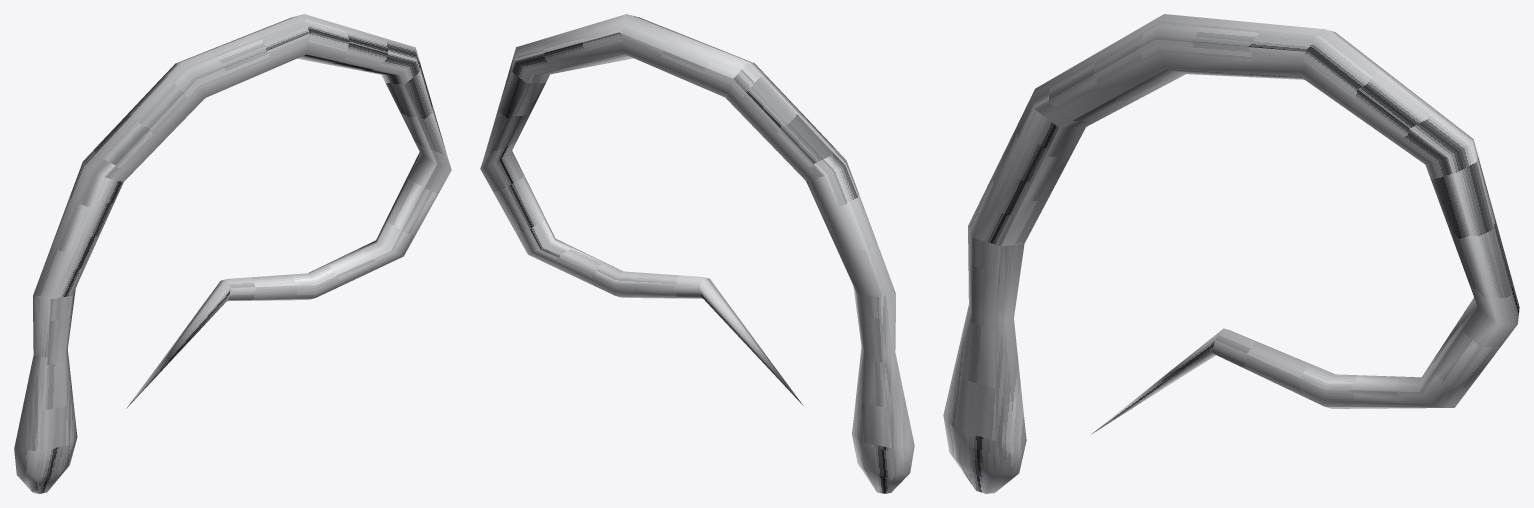
Rendered from snake_000013.obj.
The picture shows the model from 3 angles, left to right: view 1: azimuth 30°, elevation 25°; view 2: azimuth 150°, elevation 25°; view 3: azimuth 330°, elevation 25°; orthographic projection. The views are drawn at different scales.
Parts seen in each view (by area): view 1: Cylinder; view 2: Cylinder; view 3: Cylinder.
Boxes of the visible parts, x1,y1,x2,y2 form: Cylinder: (14,14,451,493); Cylinder: (480,14,914,493); Cylinder: (943,14,1519,493).
Size of the model in its own units: 4.29 by 3.91 by 0.3671.
